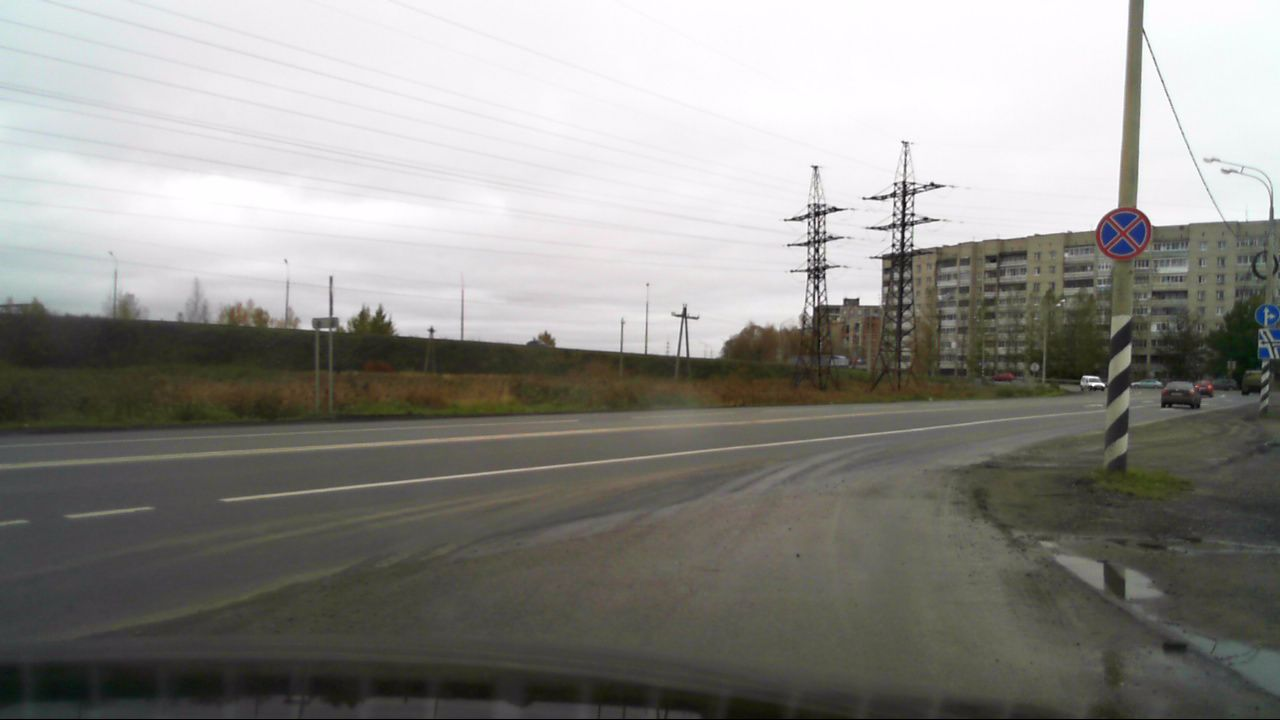No Parking: (1094, 204, 1153, 261)
